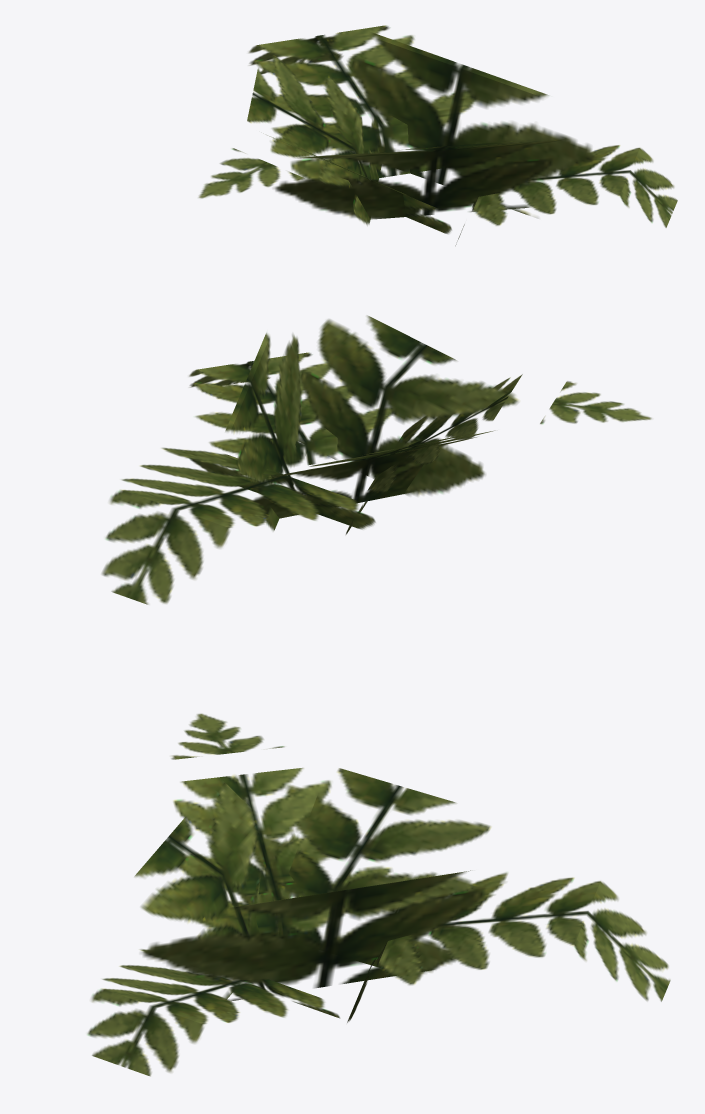
Rendered from lp_bush_a_stem.glb.
3 renders of one model, top to bottom at view 1: azimuth 30°, elevation 25°; view 2: azimuth 150°, elevation 25°; view 3: azimuth 270°, elevation 25°, orthographic. The views are drawn at different scales.
Visible parts, largest first — view 1: lp_bush_a_mid; view 2: lp_bush_a_mid; view 3: lp_bush_a_mid.
Part boxes in pixels (bbox=[...]): lp_bush_a_mid: bbox=[198, 25, 677, 245]; lp_bush_a_mid: bbox=[101, 315, 651, 604]; lp_bush_a_mid: bbox=[87, 713, 670, 1076].
Size of the model in its own units: 0.8912 by 0.1506 by 0.7928.
Materials: 1 (1 with a texture image).
